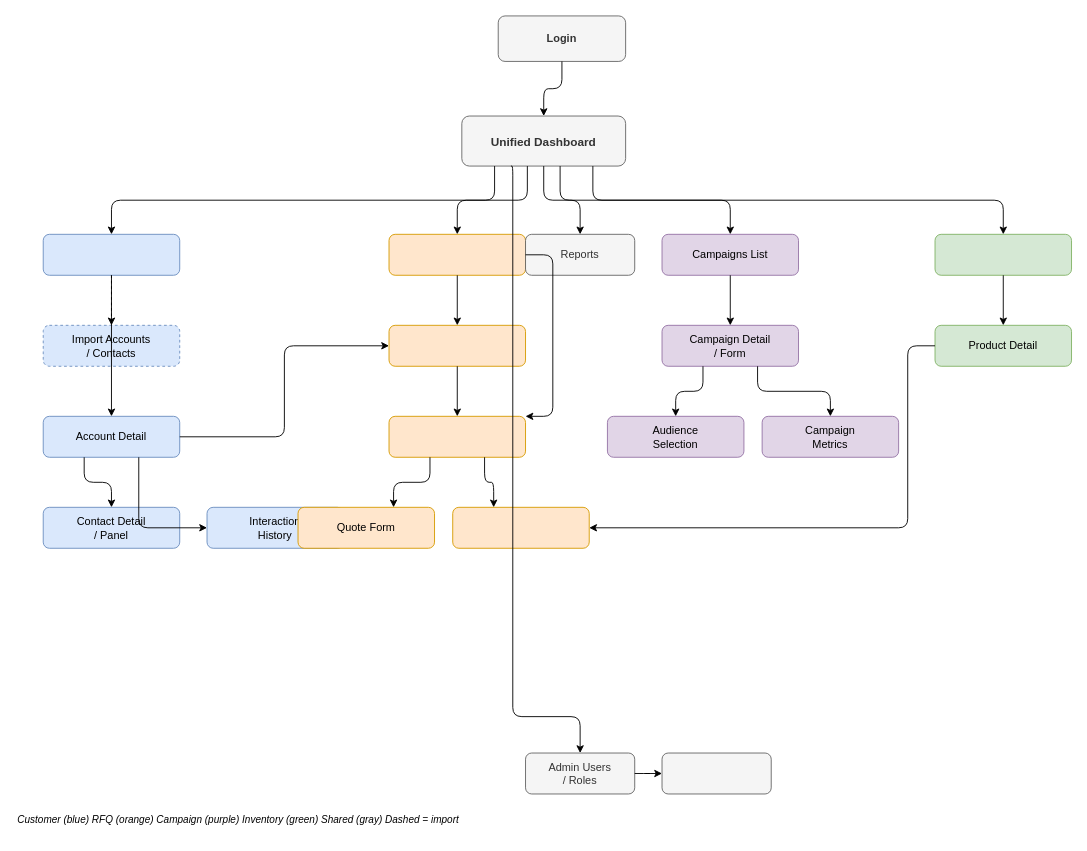
Image size: 1087x851. Some labels were removed from this diagram. Each missing label, with the box of its shape:
Accounts List: (42, 233, 180, 275)
Create RFQ Form: (388, 324, 526, 366)
Inventory List: (934, 233, 1072, 275)
Inventory Reservation View: (452, 506, 589, 548)
RFQ / Pipeline Board: (388, 233, 526, 275)
RFQ Detail: (388, 415, 526, 457)
Settings: (661, 752, 771, 794)
